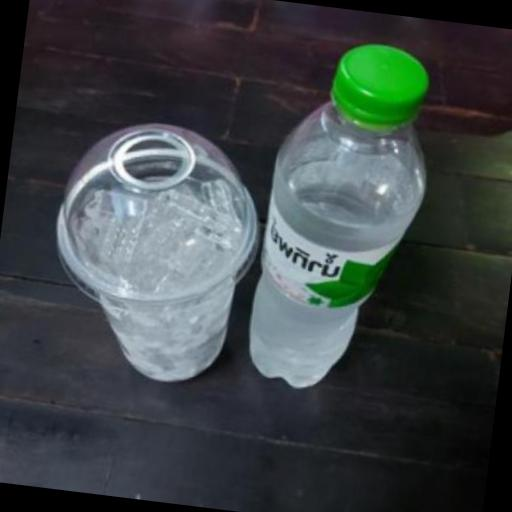Coca: (237, 23, 449, 412)
